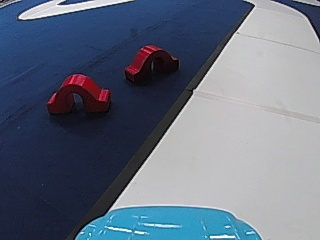bridge: (45, 69, 114, 117), (122, 41, 180, 85)
